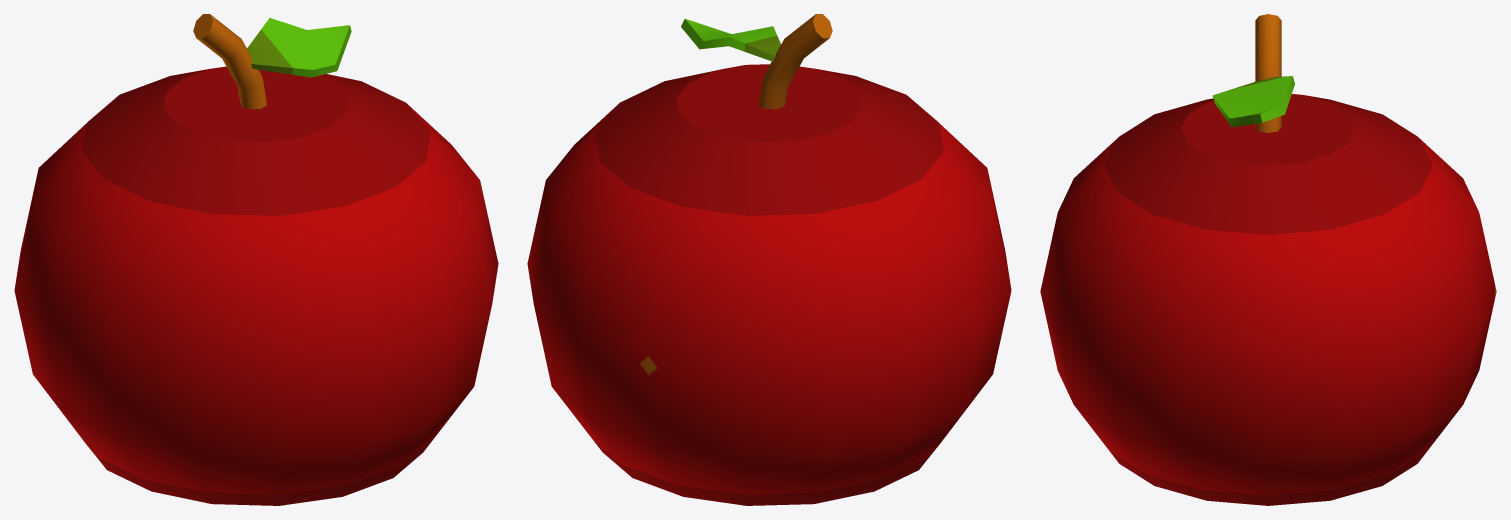
The model's file is ITMC_Manzana.FBX.
The picture shows the model from 3 angles, left to right: view 1: azimuth 30°, elevation 25°; view 2: azimuth 150°, elevation 25°; view 3: azimuth 270°, elevation 25°; orthographic projection. The views are drawn at different scales.
Visible parts, largest first — view 1: ITMC_Manzana_01, ITMC_Manzana_03, ITMC_Manzana_02; view 2: ITMC_Manzana_01, ITMC_Manzana_02, ITMC_Manzana_03; view 3: ITMC_Manzana_01, ITMC_Manzana_03, ITMC_Manzana_02.
Boxes of the visible parts, x1=… form: ITMC_Manzana_01: x1=14, y1=66, x2=498, y2=505; ITMC_Manzana_03: x1=247, y1=18, x2=351, y2=77; ITMC_Manzana_02: x1=193, y1=14, x2=266, y2=109; ITMC_Manzana_01: x1=527, y1=64, x2=1011, y2=505; ITMC_Manzana_02: x1=759, y1=14, x2=832, y2=109; ITMC_Manzana_03: x1=681, y1=19, x2=780, y2=61; ITMC_Manzana_01: x1=1040, y1=94, x2=1496, y2=505; ITMC_Manzana_03: x1=1212, y1=76, x2=1294, y2=127; ITMC_Manzana_02: x1=1255, y1=14, x2=1281, y2=132.
Bounding box in the file's own units: 0.6986 × 0.7389 × 0.6986.
